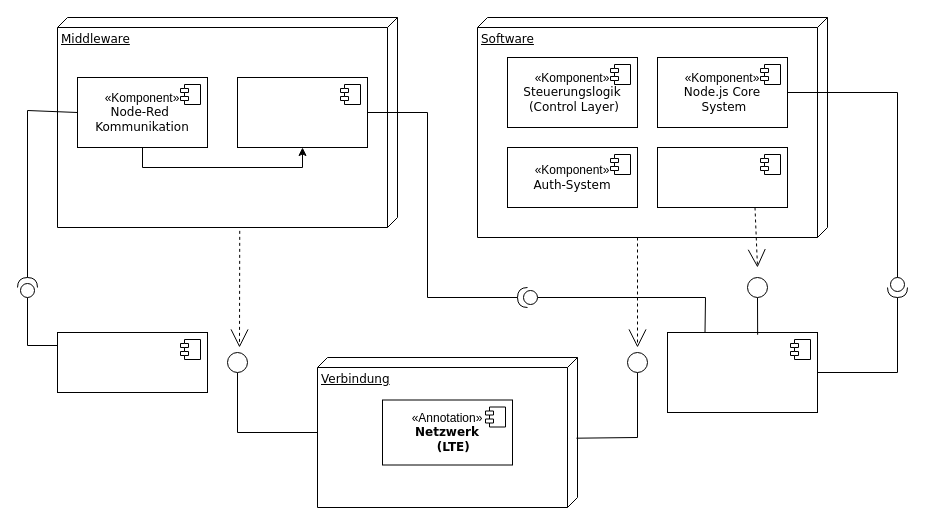
Image size: 925x525. Some labels were removed from this diagram. The shapes that lost their labels are listed below. From the top down, each one's centre as x and y in pixels, then its label:
point 302,112: «Komponent» MQTT
point 722,177: «Komponent» Hardware- Abstraktion(HAL)
point 132,362: «Komponent» Web-Client
point 742,372: «Komponent» Hardware-System (Raspberry + Motoren)
